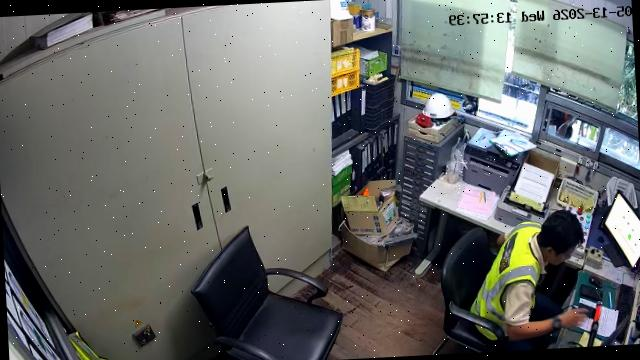Head: (539, 211, 583, 264)
People: (470, 212, 584, 350)
Phone: (579, 286, 602, 301), (578, 304, 595, 318)
